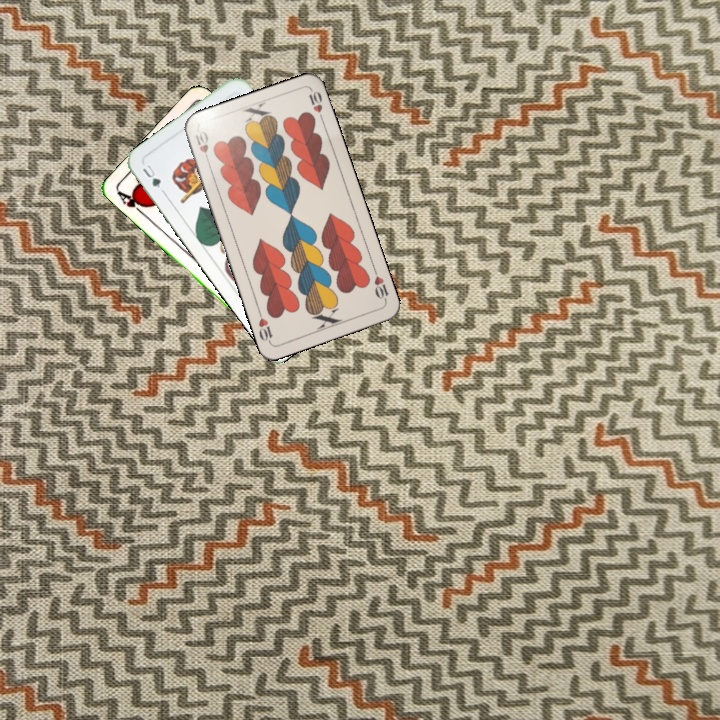GU: (138, 159, 163, 191)
H10: (191, 127, 212, 166), (370, 265, 391, 304)
HA: (113, 187, 149, 219)
